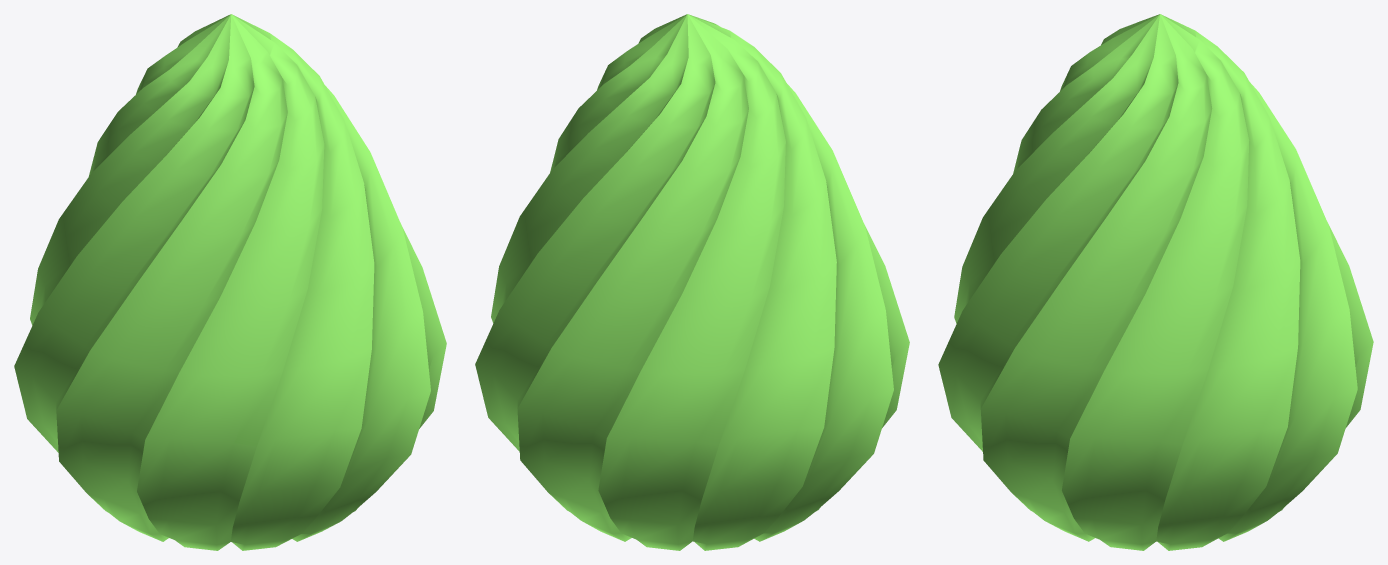
File: Ice Cream Spiral A Green.fbx
The picture shows the model from 3 angles, left to right: view 1: azimuth 30°, elevation 25°; view 2: azimuth 150°, elevation 25°; view 3: azimuth 270°, elevation 25°; orthographic projection.
Visible parts, largest first — view 1: Ice Cream Spiral A Green; view 2: Ice Cream Spiral A Green; view 3: Ice Cream Spiral A Green.
Part boxes in pixels (x1,y1,x2,y2): Ice Cream Spiral A Green: (14, 14, 446, 550); Ice Cream Spiral A Green: (475, 14, 909, 550); Ice Cream Spiral A Green: (938, 14, 1373, 550).
Size of the model in its own units: 0.4046 by 0.503 by 0.4046.
